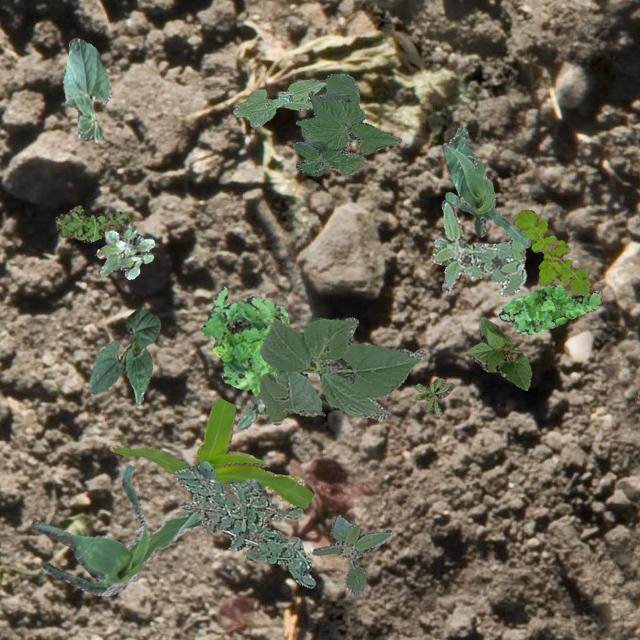crop: (29, 460, 218, 594), (109, 396, 312, 508), (258, 314, 424, 424), (292, 72, 401, 176), (440, 125, 530, 246), (88, 306, 160, 402), (62, 36, 108, 140), (464, 316, 530, 388), (232, 78, 326, 125)
weed: (172, 464, 314, 586), (200, 286, 288, 396), (430, 198, 526, 294), (512, 208, 590, 294), (312, 514, 392, 594), (498, 282, 602, 334), (95, 222, 154, 278), (54, 204, 132, 240), (413, 378, 452, 414), (237, 392, 266, 428)
